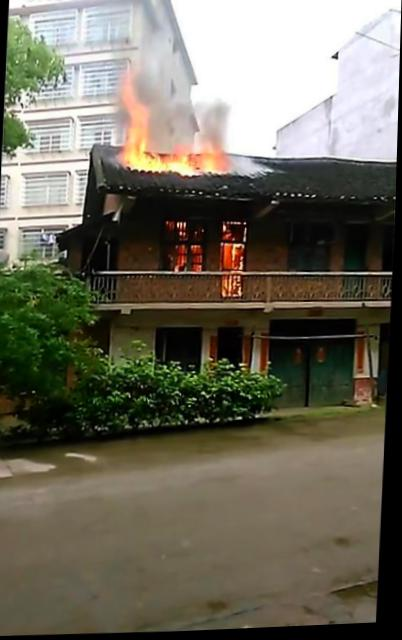fire: (199, 140, 234, 178), (126, 106, 152, 154), (125, 154, 166, 174), (170, 152, 199, 177), (225, 246, 245, 272), (224, 277, 245, 297)
